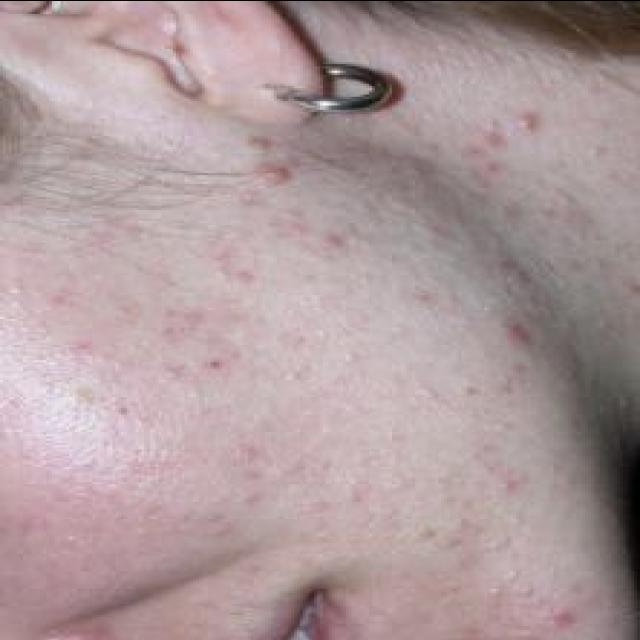Acne: (460, 128, 510, 176), (160, 303, 210, 341), (205, 244, 235, 284), (226, 437, 264, 468), (256, 160, 294, 190), (544, 605, 582, 633), (488, 471, 526, 498), (501, 321, 538, 348), (318, 227, 352, 253), (510, 110, 546, 134), (198, 354, 236, 376), (246, 132, 274, 156), (40, 290, 73, 310)
